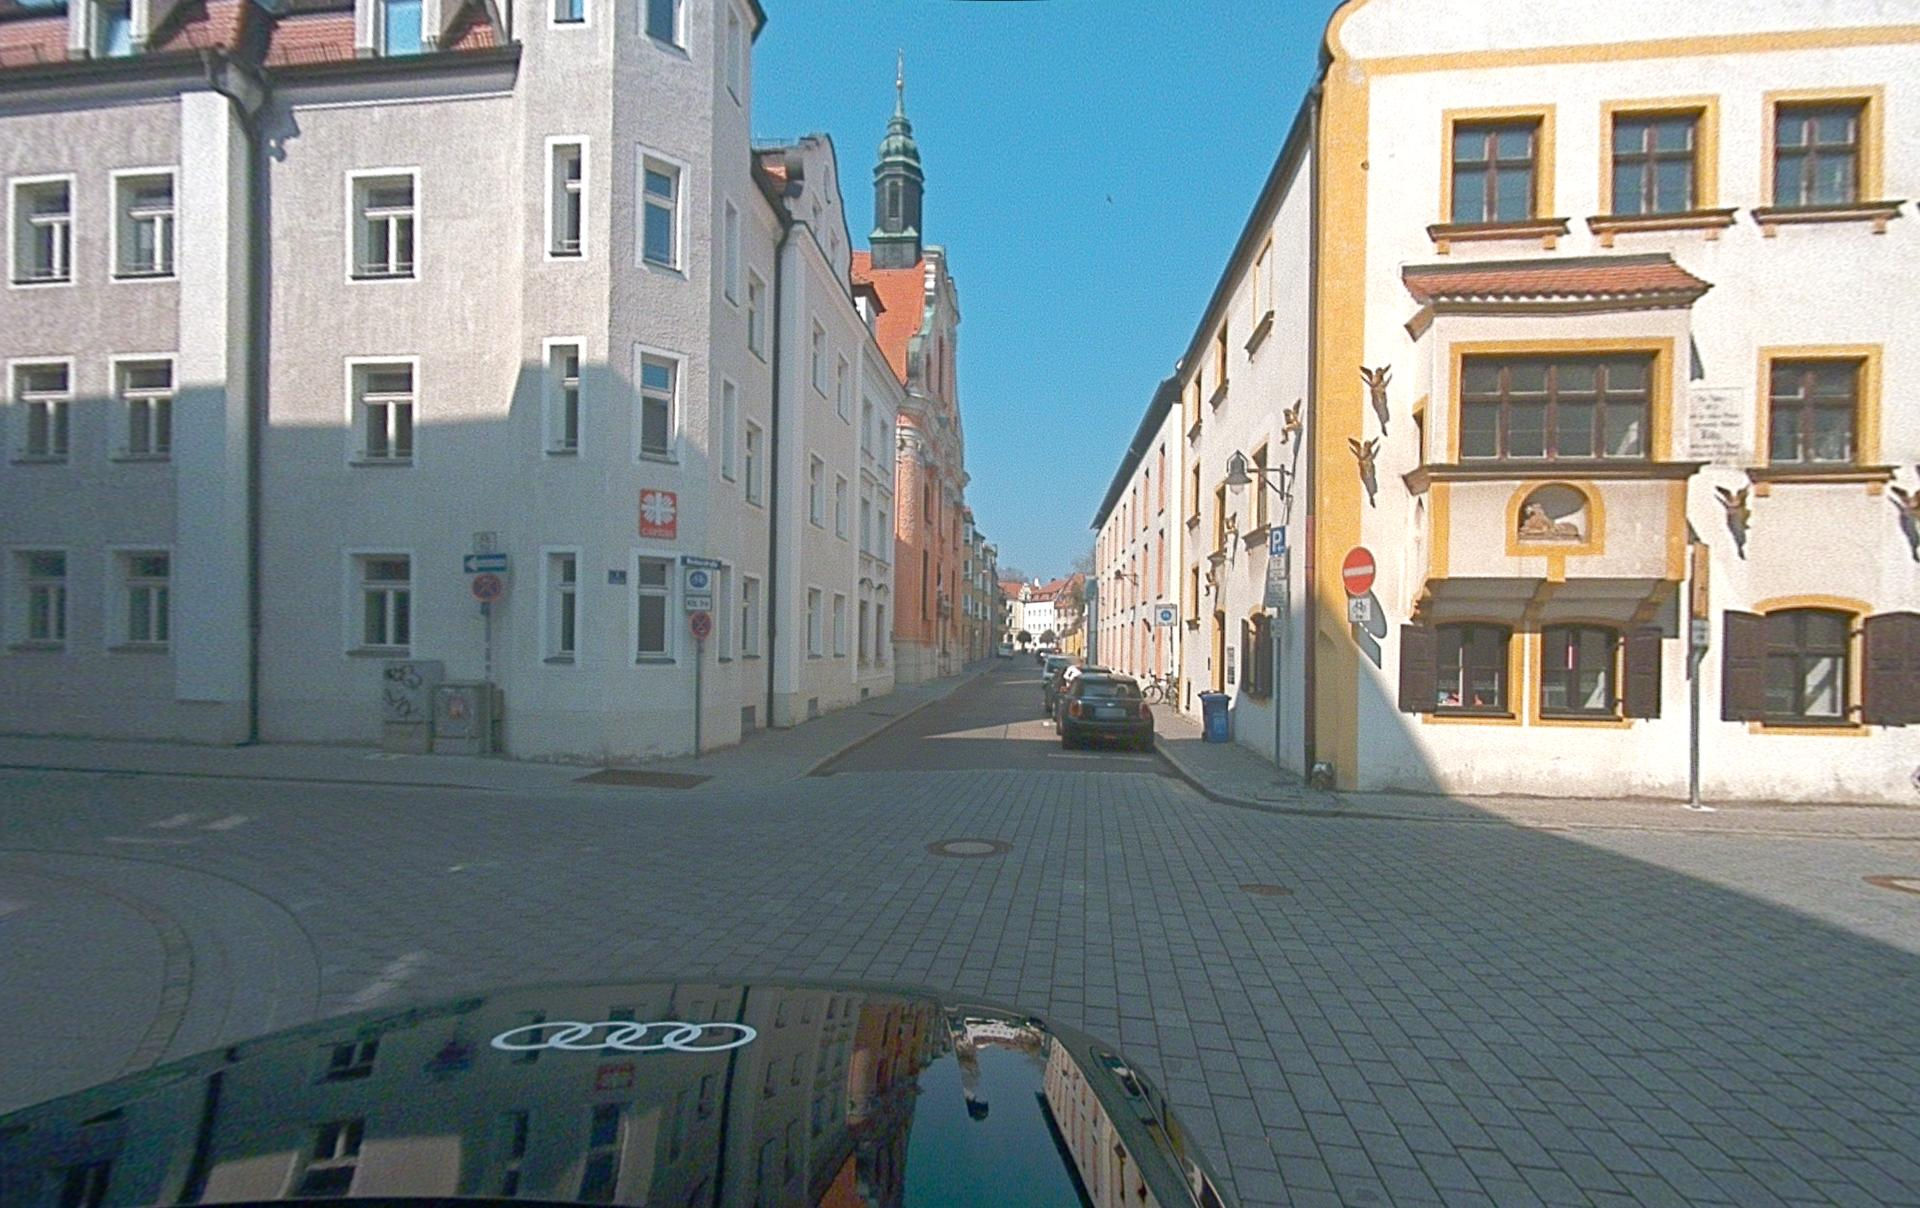car: (1056, 672, 1155, 750)
traffic sign: (463, 551, 509, 573)
